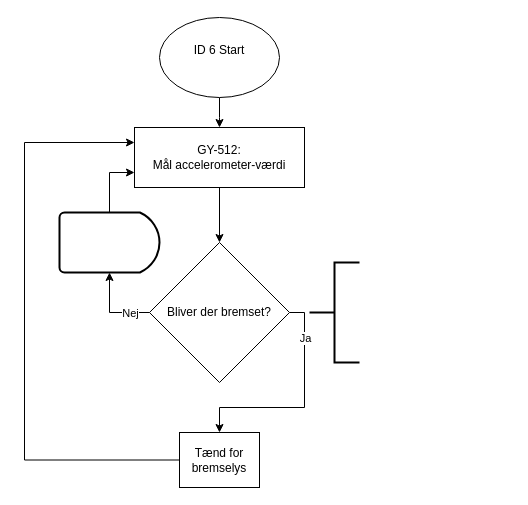
Image size: 528x505. Some labels were removed from this diagram. Here are the shapes that lost their labels. From the top down, the box of each, then its label:
(58, 211, 160, 273): Vent 500 millisekunder
(308, 261, 360, 363): Er der negativ acceleration? Grænseværdi er valgfri at bestemme.
